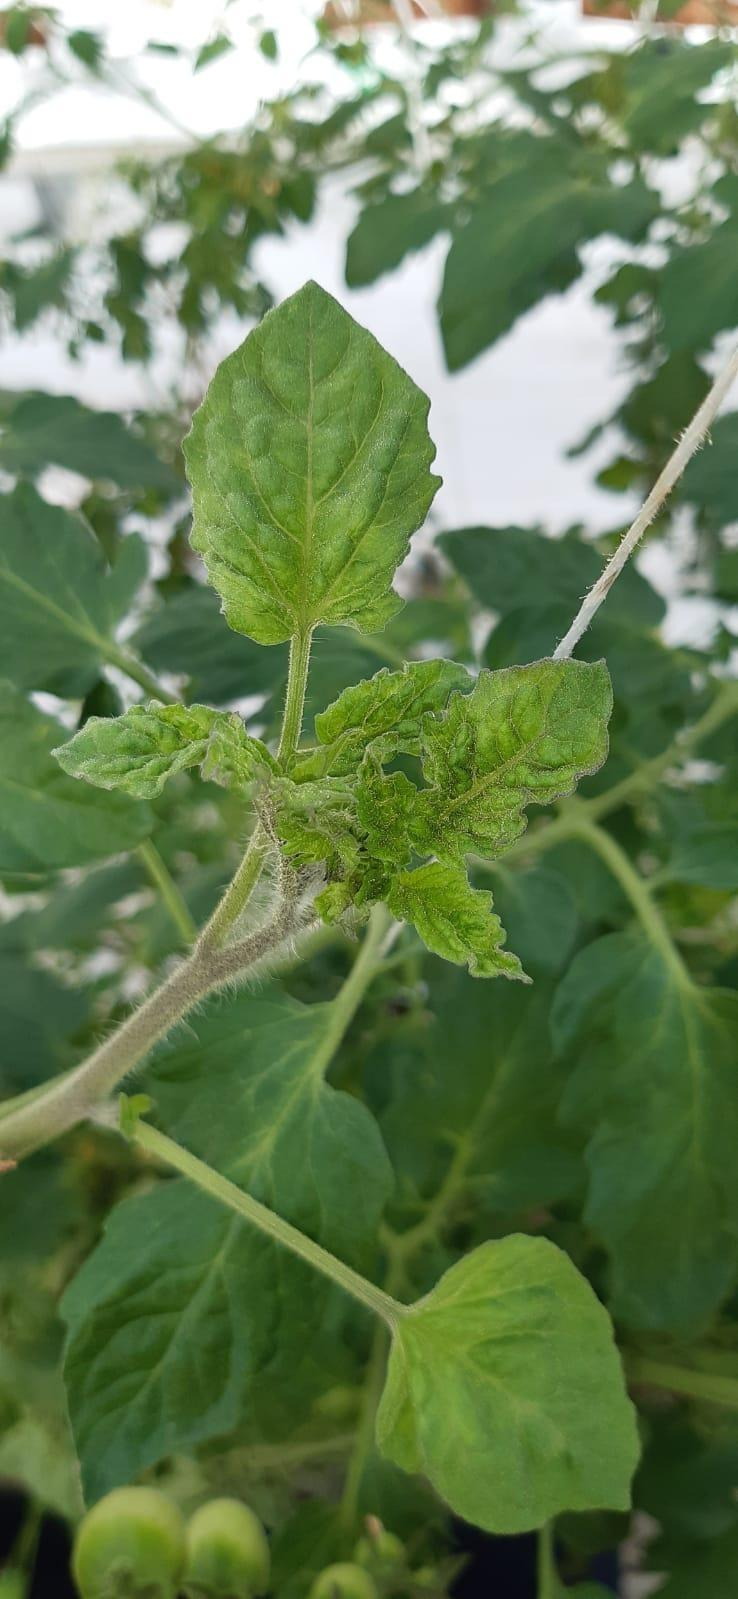Rugose leaf: (184, 285, 440, 643), (409, 659, 613, 862), (291, 659, 475, 784), (53, 703, 275, 799), (387, 862, 528, 981), (275, 778, 359, 876), (356, 756, 415, 864)
Rugose stem: (206, 834, 265, 941), (278, 631, 312, 768)
